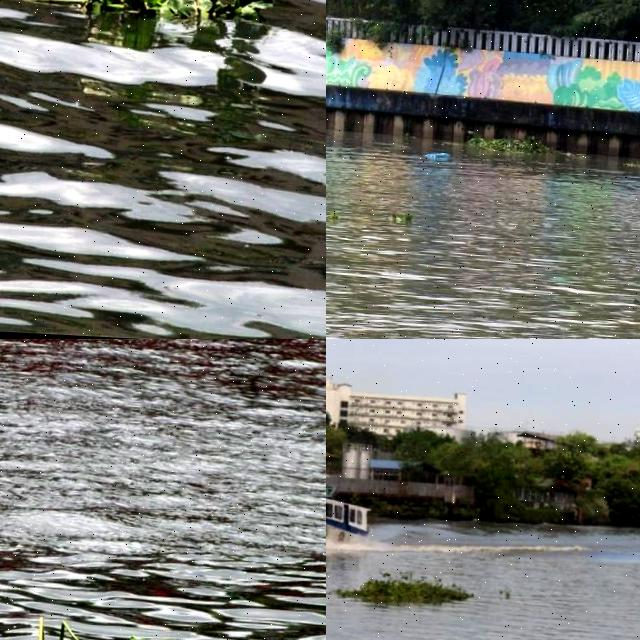water-hyacinth: (78, 1, 283, 63), (332, 569, 481, 614), (1, 613, 228, 640), (459, 126, 573, 169)
